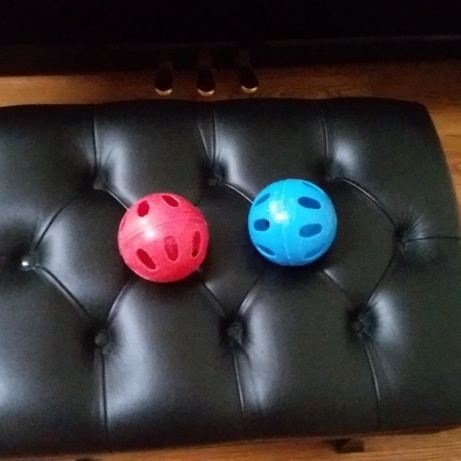ball: (114, 189, 212, 287), (244, 177, 341, 270)
